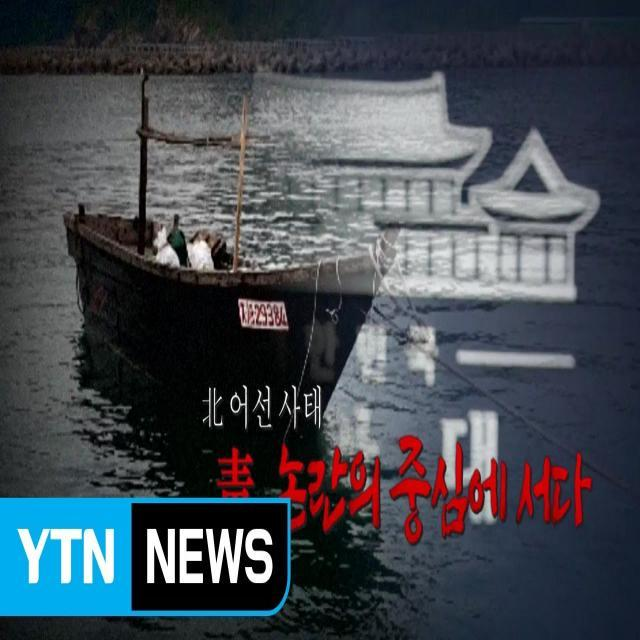Ship: (57, 70, 398, 419)
